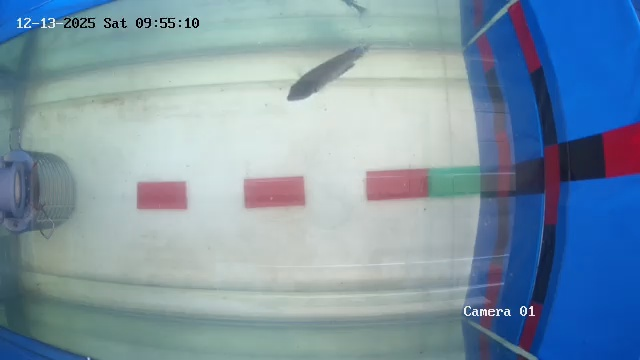fish: (283, 38, 373, 112)
